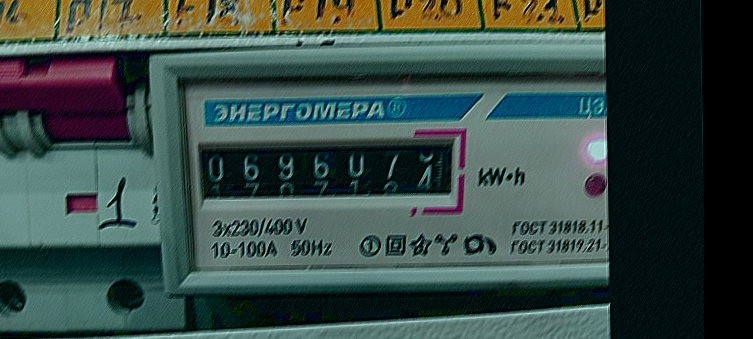0: (205, 152, 226, 182), (347, 148, 366, 178)
4: (414, 162, 433, 191)
6: (311, 149, 331, 180), (241, 151, 260, 180)
7: (381, 147, 400, 178)
9: (276, 150, 296, 180)
screen: (186, 121, 471, 218)
